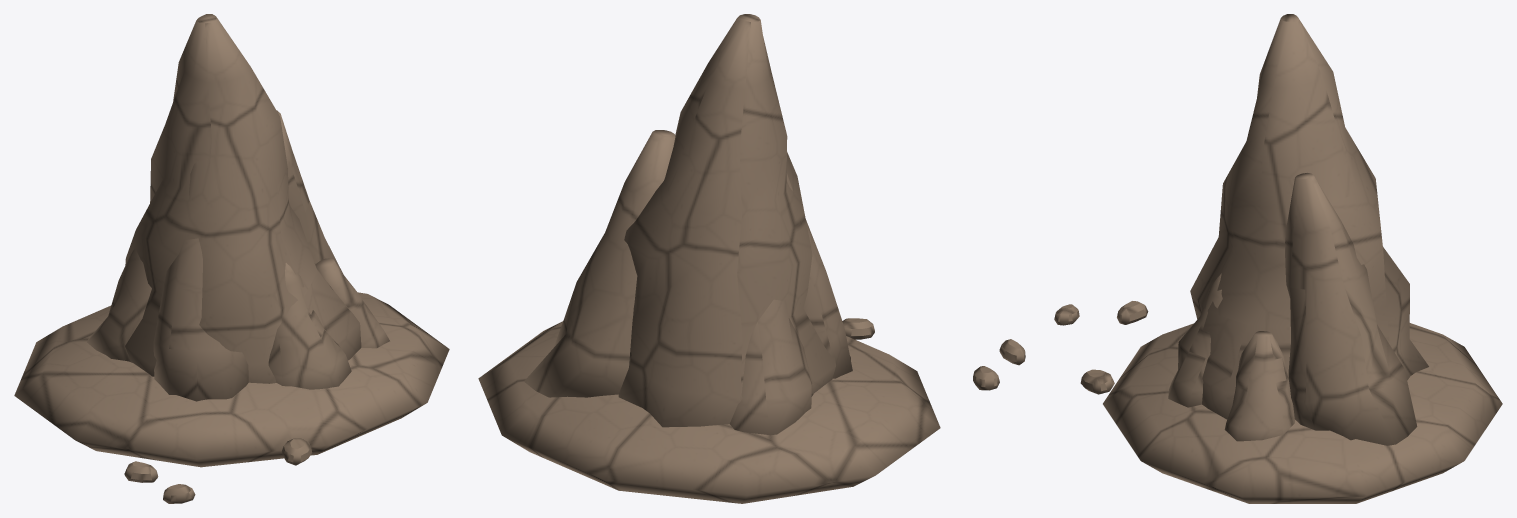
Rendered from termite_mound.glb.
3 views of the same model, side by side, from view 1: azimuth 30°, elevation 25°; view 2: azimuth 150°, elevation 25°; view 3: azimuth 270°, elevation 25° (orthographic). The views are drawn at different scales.
Parts seen in each view (by area): view 1: termite_mound; view 2: termite_mound; view 3: termite_mound.
Part boxes in pixels (x1,y1,x2,y2): termite_mound: (14, 14, 449, 503); termite_mound: (478, 14, 1025, 503); termite_mound: (1054, 14, 1502, 503).
Bounding box in the file's own units: 2.2 × 2.27 × 2.24.
1 material, 1 textured.
